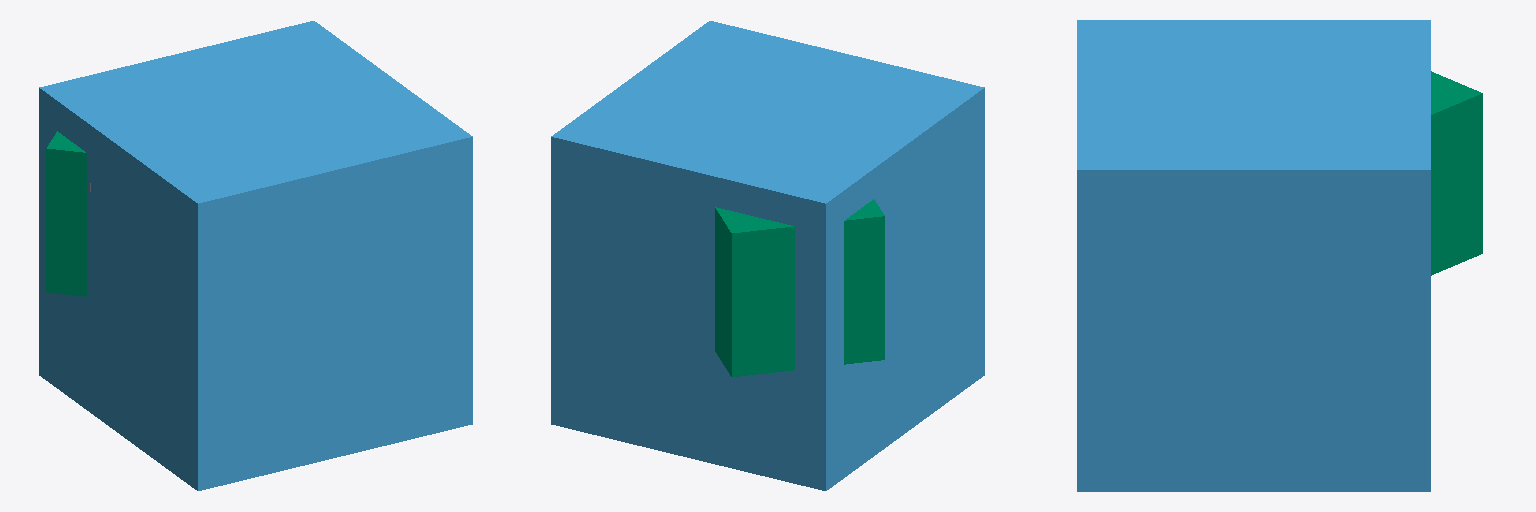
The robot description file, URDF, robot "mesh_demo":
<?xml version="1.0"?>
<robot name="mesh_demo">
  <material name="blue">
    <color rgba="0 0 0.8 1" />
  </material>
  <material name="gray">
    <color rgba="0.5 0.5 0.5 1" />
  </material>
  <link name="base_footprint" />
  <link name="base_link">
    <visual>
      <geometry>
        <mesh filename="cube.obj" />
      </geometry>
    </visual>
    <collision>
      <geometry>
        <mesh filename="cube.obj" />
      </geometry>
    </collision>
  </link>
  <link name="sensor_link">
    <visual>
      <origin rpy="0 0 0.7853981633974483" />
      <geometry>
        <mesh filename="cube.obj" scale="0.5 0.5 0.5" />
      </geometry>
    </visual>
    <collision>
      <origin rpy="0 0 0.7853981633974483" />
      <geometry>
        <mesh filename="cube.obj" scale="0.5 0.5 0.5" />
      </geometry>
    </collision>
  </link>
  <link name="arm_link">
    <visual>
      <geometry>
        <cylinder radius="0.02" length="0.3" />
      </geometry>
      <material name="gray" />
    </visual>
    <collision>
      <geometry>
        <cylinder radius="0.02" length="0.3" />
      </geometry>
    </collision>
  </link>
  <joint name="base_footprint_to_base_link" type="fixed">
    <parent link="base_footprint" />
    <child link="base_link" />
    <origin xyz="0 0 0.05" />
  </joint>
  <joint name="base_link_to_sensor_link" type="fixed">
    <parent link="base_link" />
    <child link="sensor_link" />
    <origin xyz="0.2 0 0.1" />
  </joint>
  <joint name="base_link_to_arm_link" type="revolute">
    <parent link="base_link" />
    <child link="arm_link" />
    <origin xyz="0 0 0.15" />
    <axis xyz="0 0 1" />
  </joint>
</robot>

--- What the picture shows (computed from the rendered views, not written in the file) ---
The picture shows the robot from 3 angles, left to right: view 1: azimuth 30°, elevation 25°; view 2: azimuth 150°, elevation 25°; view 3: azimuth 270°, elevation 25°; orthographic projection.
Model mesh_demo with 4 links and 3 joints (1 revolute, 2 fixed), rooted at base_footprint, posed all joints at 0.
Visible links, largest first — view 1: base_link, sensor_link; view 2: base_link, sensor_link; view 3: base_link, sensor_link.
Boxes of the visible links, x1,y1,x2,y2 form: base_link: (39, 21, 472, 490); sensor_link: (46, 131, 86, 296); base_link: (551, 21, 984, 490); sensor_link: (715, 199, 884, 376); base_link: (1077, 20, 1430, 491); sensor_link: (1431, 71, 1482, 275).
Bounding box of the posed robot: 10.94 × 11.45 × 10 m (x, y, z).
Meshes: 1 distinct files referenced, 2 mesh visuals loaded (1 OBJ).